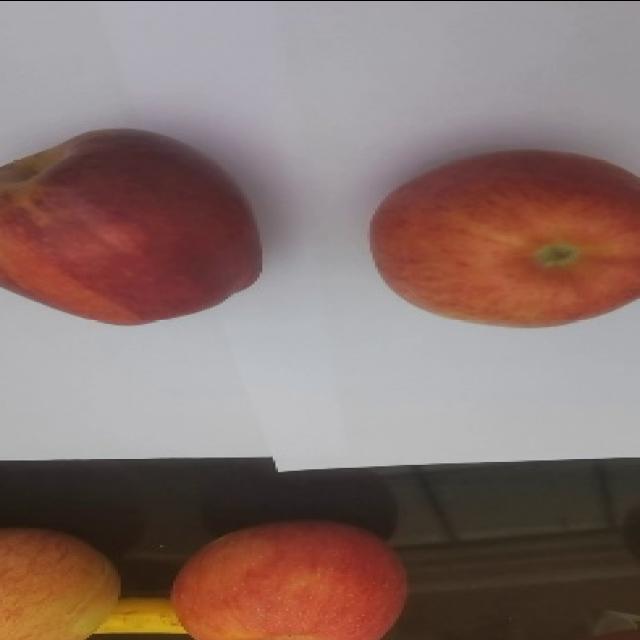Apple: (0, 130, 268, 331), (366, 149, 640, 332), (172, 522, 408, 640), (0, 529, 130, 640)
